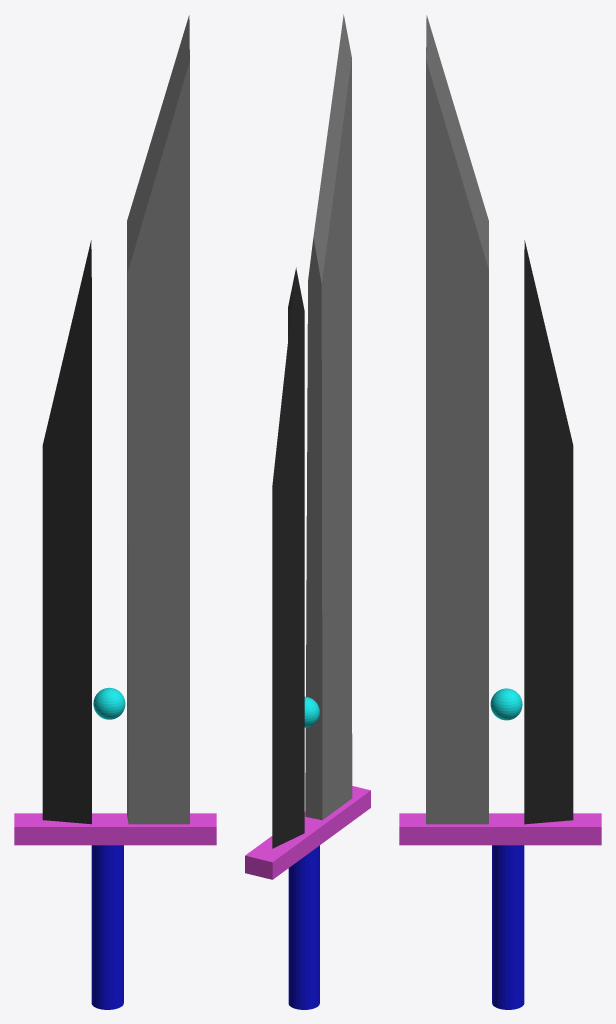
Rendered from Меч3.fbx.
The picture shows the model from 3 angles, left to right: view 1: azimuth 90°, elevation 25°; view 2: azimuth 150°, elevation 25°; view 3: azimuth 270°, elevation 25°; orthographic projection. The views are drawn at different scales.
Visible parts, largest first — view 1: Blade1, Blade2, Cube, Cylinder, Sphere; view 2: Blade1, Blade2, Cylinder, Cube, Sphere; view 3: Blade1, Blade2, Cube, Cylinder, Sphere.
Part boxes in pixels (left/top/right/bottom): Blade1: left=127, top=15, right=189, bottom=824; Blade2: left=42, top=240, right=91, bottom=824; Cube: left=14, top=813, right=216, bottom=845; Cylinder: left=91, top=845, right=123, bottom=1009; Sphere: left=93, top=687, right=125, bottom=719; Blade1: left=305, top=14, right=352, bottom=820; Blade2: left=272, top=267, right=304, bottom=848; Cylinder: left=288, top=845, right=319, bottom=1009; Cube: left=245, top=786, right=370, bottom=879; Sphere: left=304, top=696, right=319, bottom=727; Blade1: left=426, top=15, right=488, bottom=824; Blade2: left=524, top=240, right=573, bottom=824; Cube: left=399, top=813, right=601, bottom=845; Cylinder: left=492, top=845, right=524, bottom=1009; Sphere: left=490, top=688, right=522, bottom=720.
Size of the model in its own units: 16.62 by 545 by 101.
